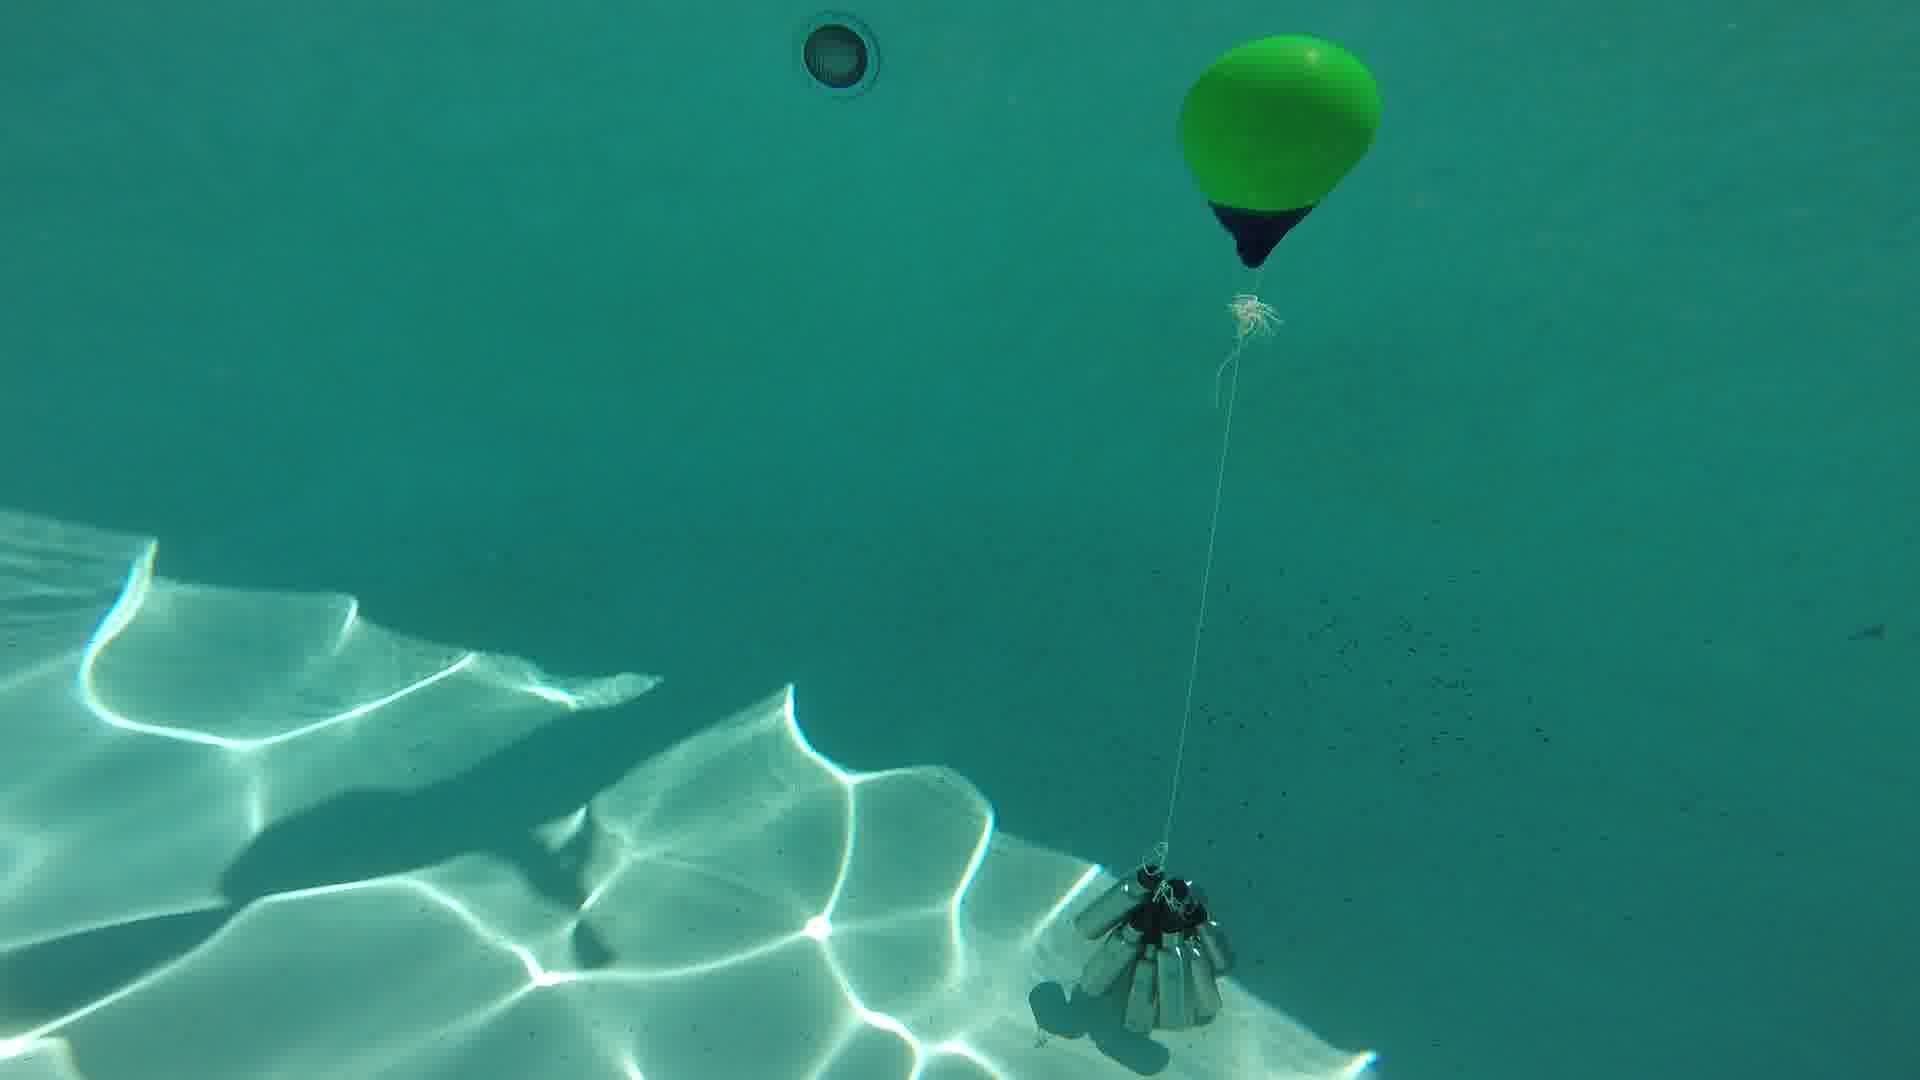yellow_buoy: (1178, 30, 1385, 276)
